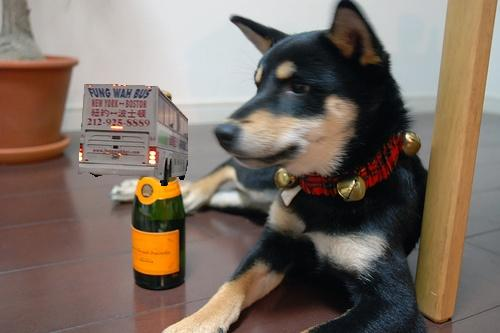tampered: (79, 85, 188, 186)
